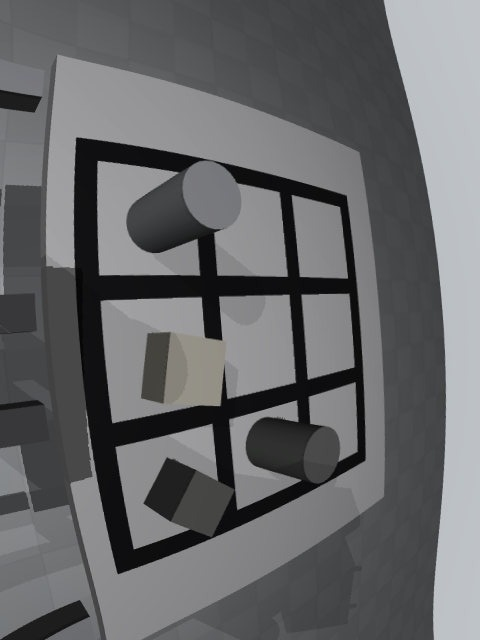can: (126, 160, 241, 253)
cube: (143, 458, 235, 537)
cylinder: (246, 417, 340, 484)
foam: (141, 332, 226, 406)
